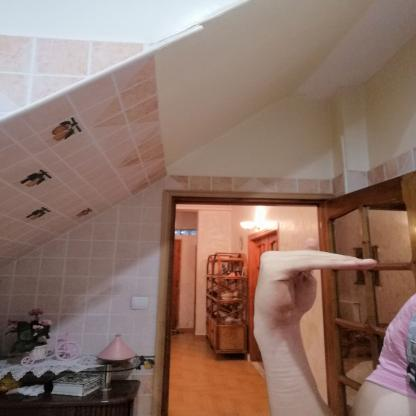KHAA: (239, 228, 389, 338)
